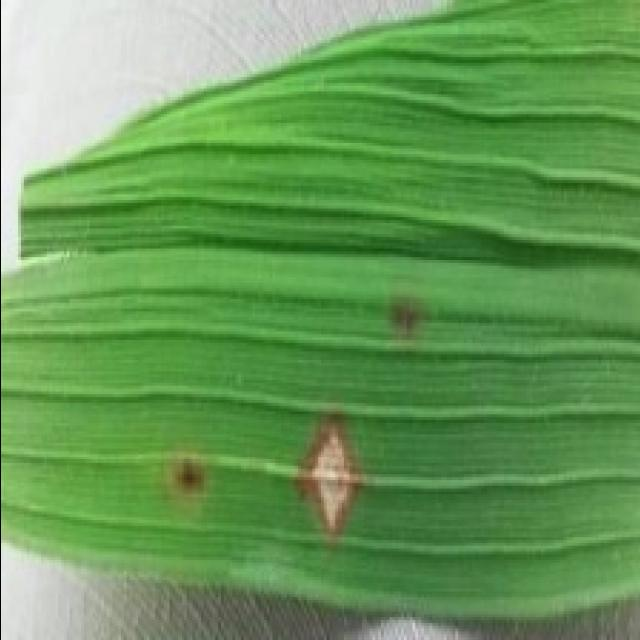Unhealthy: (290, 414, 367, 552), (380, 285, 427, 341), (168, 454, 215, 500)
